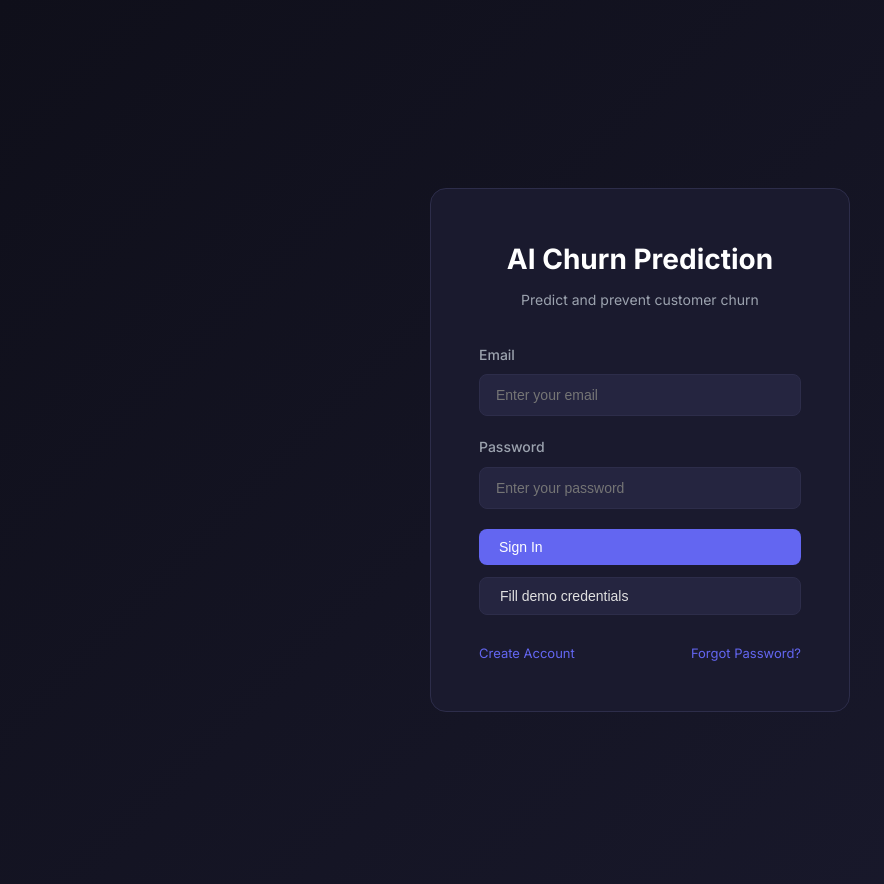
Scenario: missing demo credentials are explained and the login form stays untouched
This screenshot has width=884, height=884.
Click the button "Fill demo credentials" at (564,596), box [479,577,801,615]
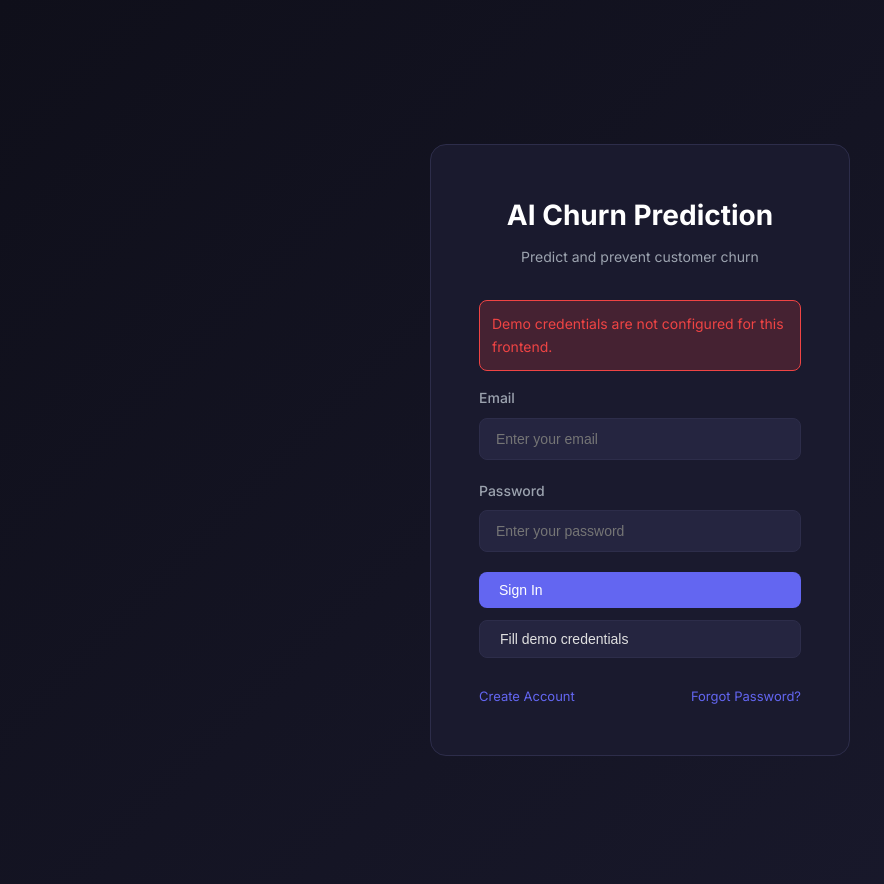
Check: the field with placeholder "Enter your email" is empty, box [479,418,801,460]
Check: the text "Demo credentials are not configured" is shown, box [492,315,784,355]
